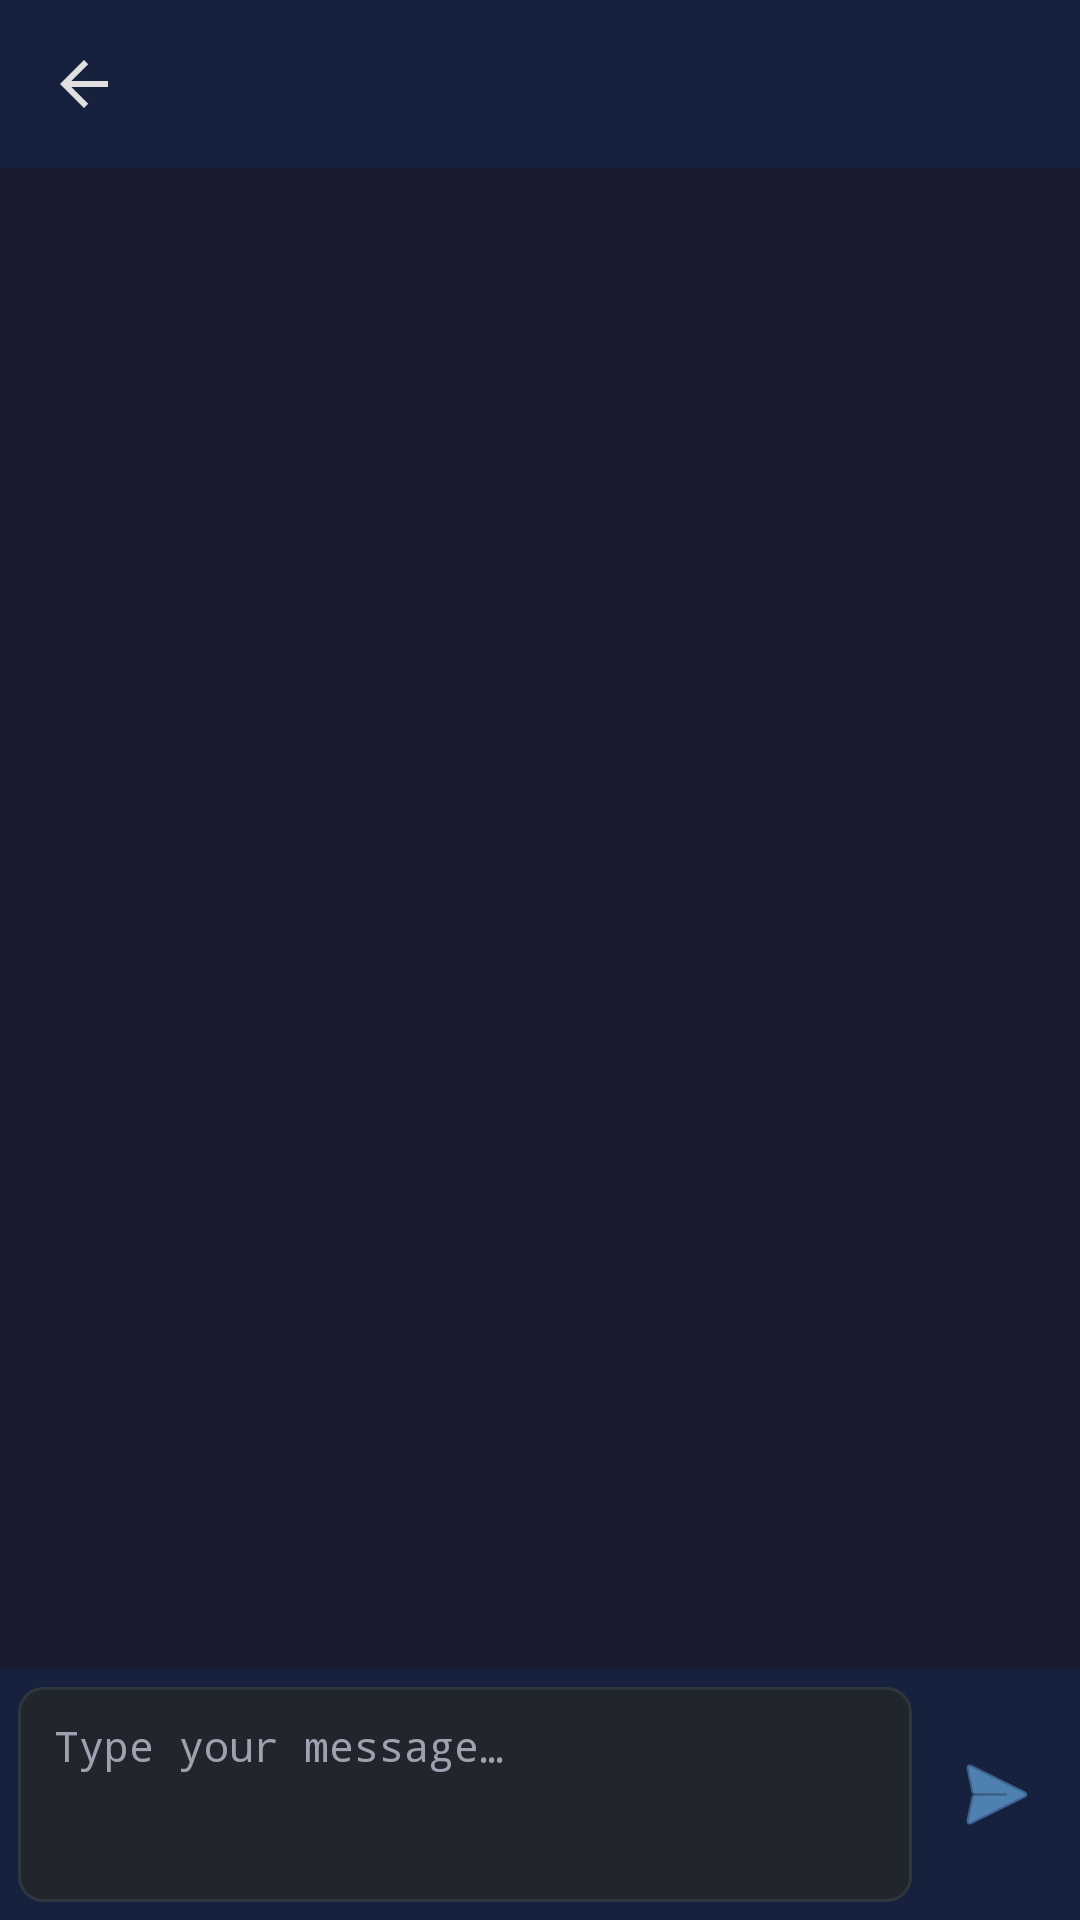

Point at icon controls on the screen. Image size 1080px x 1920px, points as (x=x, y=y).
Send: (x=997, y=1794)
